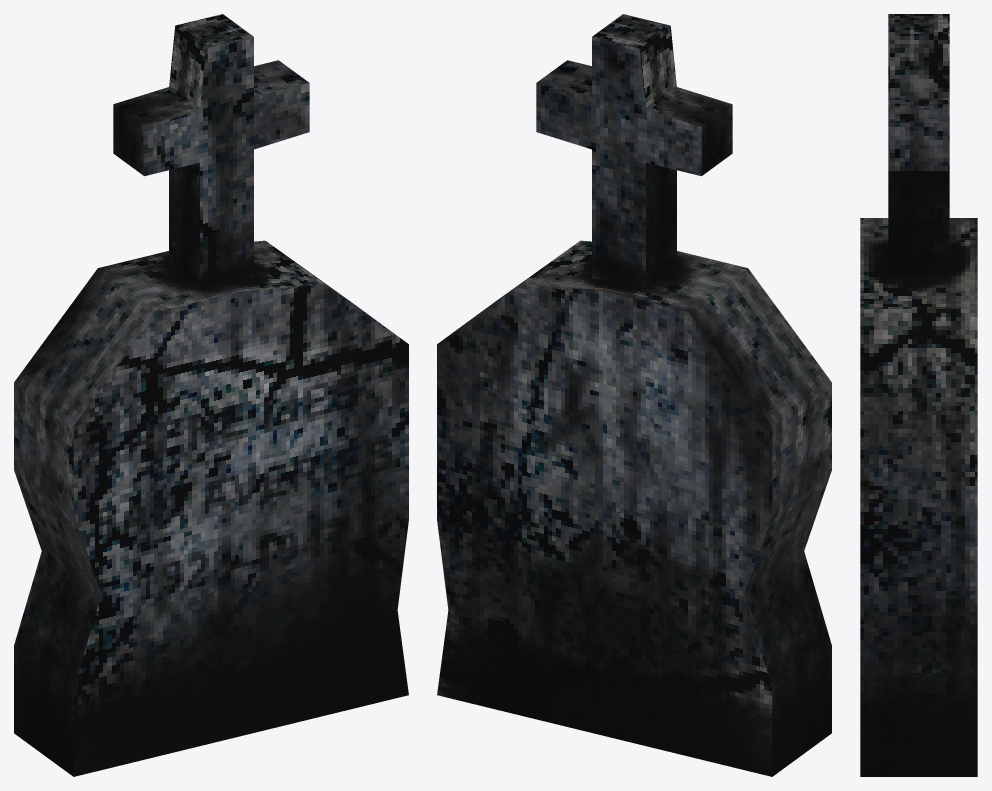
File: low_poly_ps1_tombstone.glb
The picture shows the model from 3 angles, left to right: view 1: azimuth 30°, elevation 25°; view 2: azimuth 150°, elevation 25°; view 3: azimuth 270°, elevation 25°; orthographic projection.
Visible parts, largest first — view 1: Cube.001_0; view 2: Cube.001_0; view 3: Cube.001_0.
Part boxes in pixels (x1=…): Cube.001_0: x1=14, y1=14, x2=408, y2=776; Cube.001_0: x1=437, y1=14, x2=831, y2=776; Cube.001_0: x1=860, y1=14, x2=977, y2=776.
Bounding box in the file's own units: 0.6237 × 1.21 × 0.1922.
Materials: 1 (1 with a texture image).
